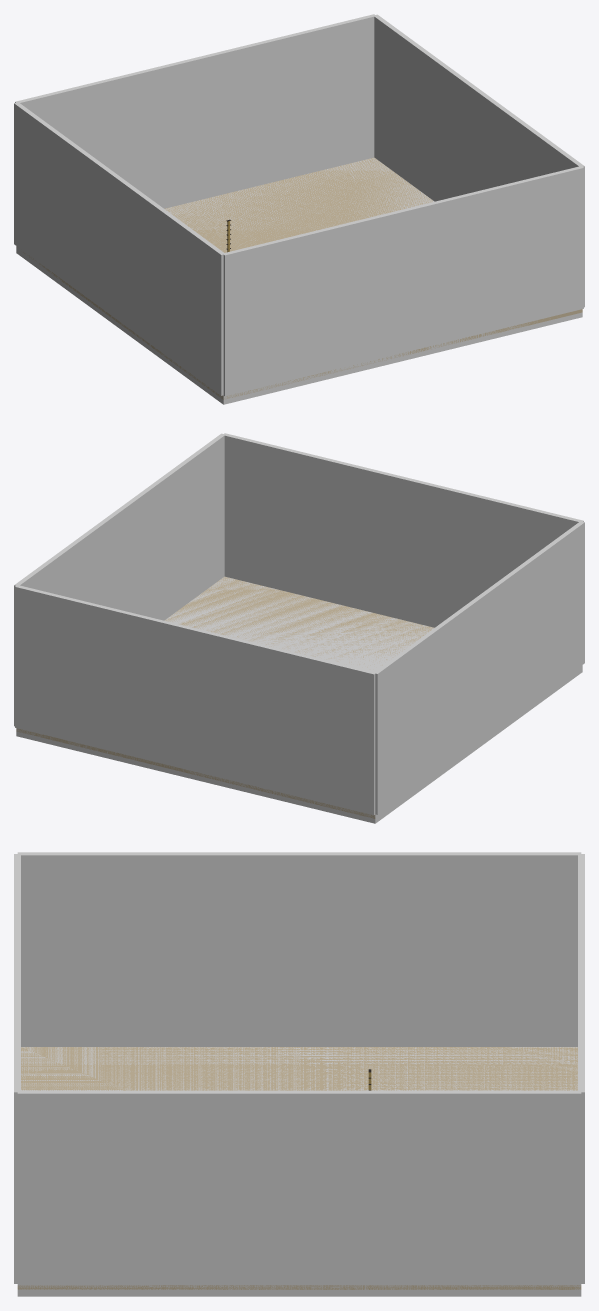
Rendered from calibration.glb.
3 renders of one model, top to bottom at view 1: azimuth 30°, elevation 25°; view 2: azimuth 150°, elevation 25°; view 3: azimuth 270°, elevation 25°, orthographic. The views are drawn at different scales.
Parts seen in each view (by area): view 1: COL_boundary.003, COL_boundary.002, COL_boundary, COL_boundary.001, VIS_CAL_floor, COL_floor; view 2: COL_boundary.002, COL_boundary.003, COL_boundary, COL_boundary.001, COL_floor, VIS_CAL_floor; view 3: COL_boundary.001, COL_boundary, VIS_CAL_floor, COL_floor, COL_boundary.002, COL_boundary.003.
Part boxes in pixels (x1,y1,x2,y2): COL_boundary.003: (223,166,583,396); COL_boundary.002: (15,14,374,208); COL_boundary: (14,102,225,395); COL_boundary.001: (373,14,584,307); VIS_CAL_floor: (23,157,582,399); COL_floor: (16,158,582,404); COL_boundary.002: (15,585,375,815); COL_boundary.003: (224,433,583,627); COL_boundary: (373,521,584,814); COL_boundary.001: (14,433,224,726); COL_floor: (16,577,582,823); VIS_CAL_floor: (16,576,434,818); COL_boundary.001: (17,1090,581,1285); COL_boundary: (17,852,581,1046); VIS_CAL_floor: (17,1047,581,1289); COL_floor: (17,1047,581,1296); COL_boundary.002: (578,854,584,1283); COL_boundary.003: (14,854,20,1283).
Size of the model in its own units: 8.1 by 3.2 by 8.1.
